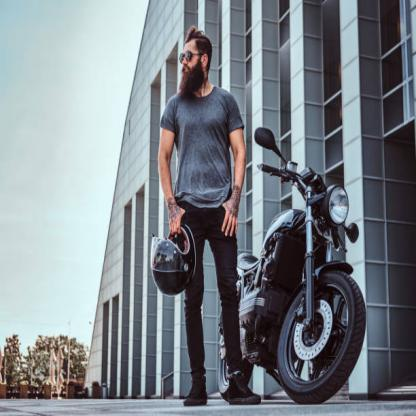Motorcycle: (233, 132, 371, 415)
